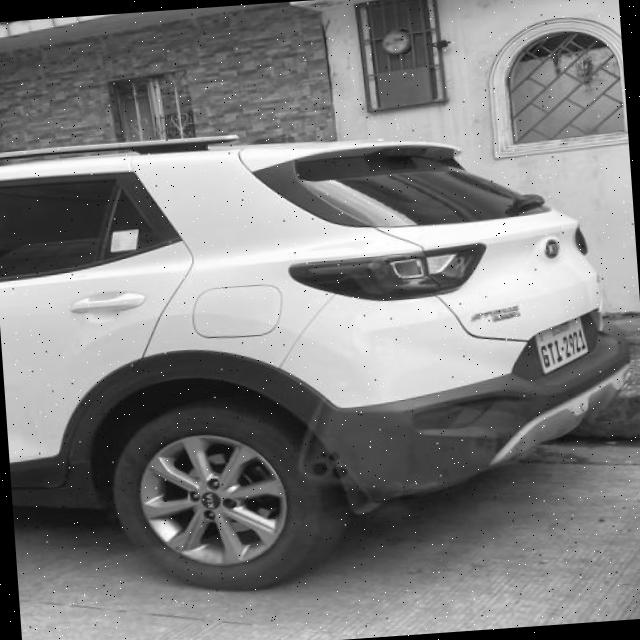Placa: (536, 318, 587, 372)
